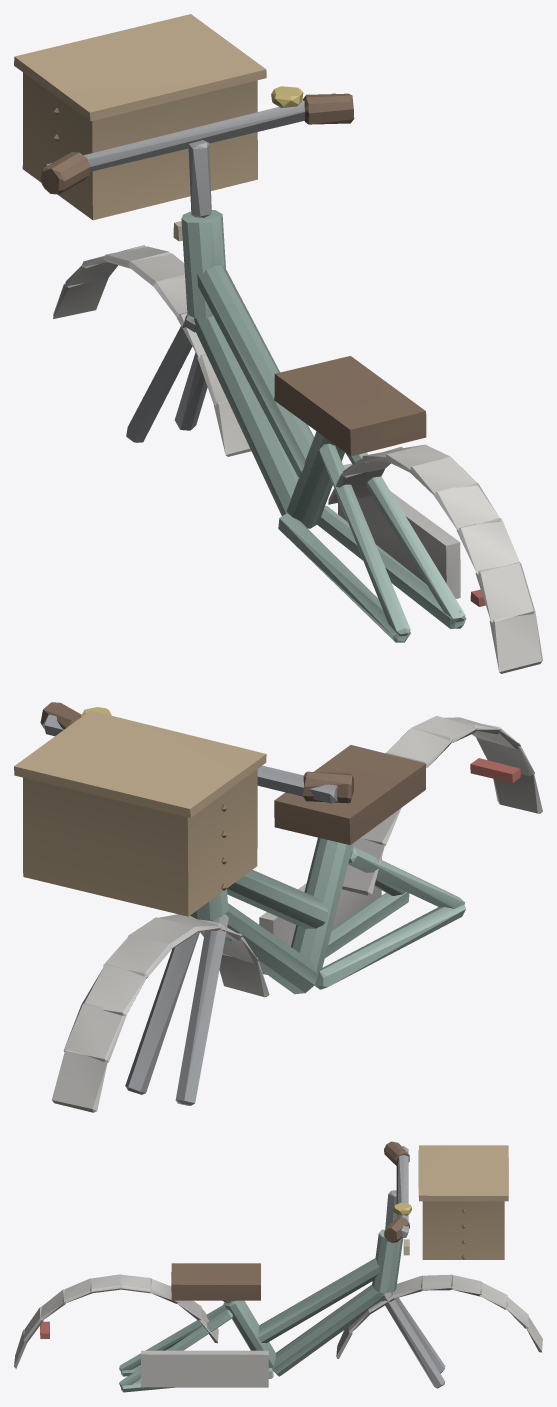
The model's file is bike_frame__mint_low.glb.
3 views of the same model, one above another, from view 1: azimuth 30°, elevation 25°; view 2: azimuth 150°, elevation 25°; view 3: azimuth 270°, elevation 25° (orthographic). The views are drawn at different scales.
Bounding box in the file's own units: 0.553 × 0.6181 × 1.39.
